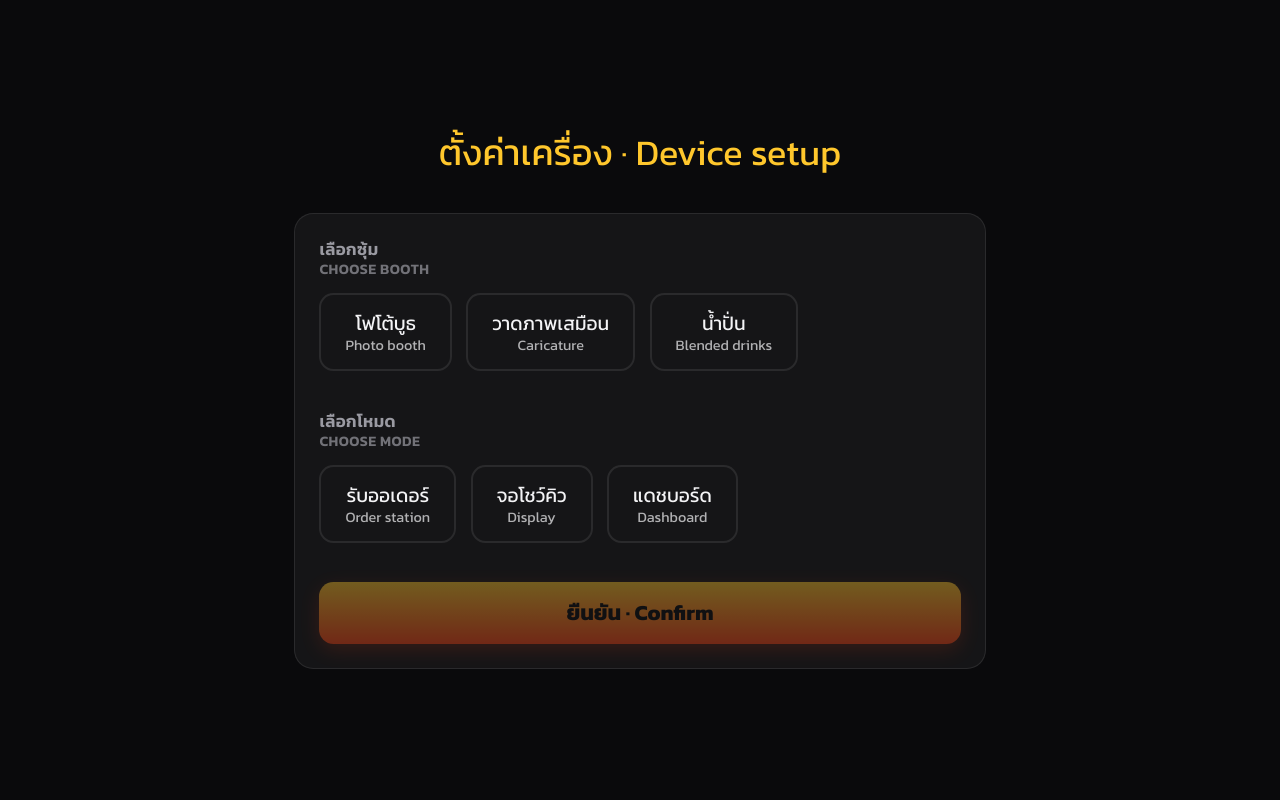
Test: order mode renders the Order Station with the booth catalog
The width and height of the screenshot is (1280, 800).
Click the button "น้ำปั่น Blended drinks" at (724, 332), box [650,293,798,371]
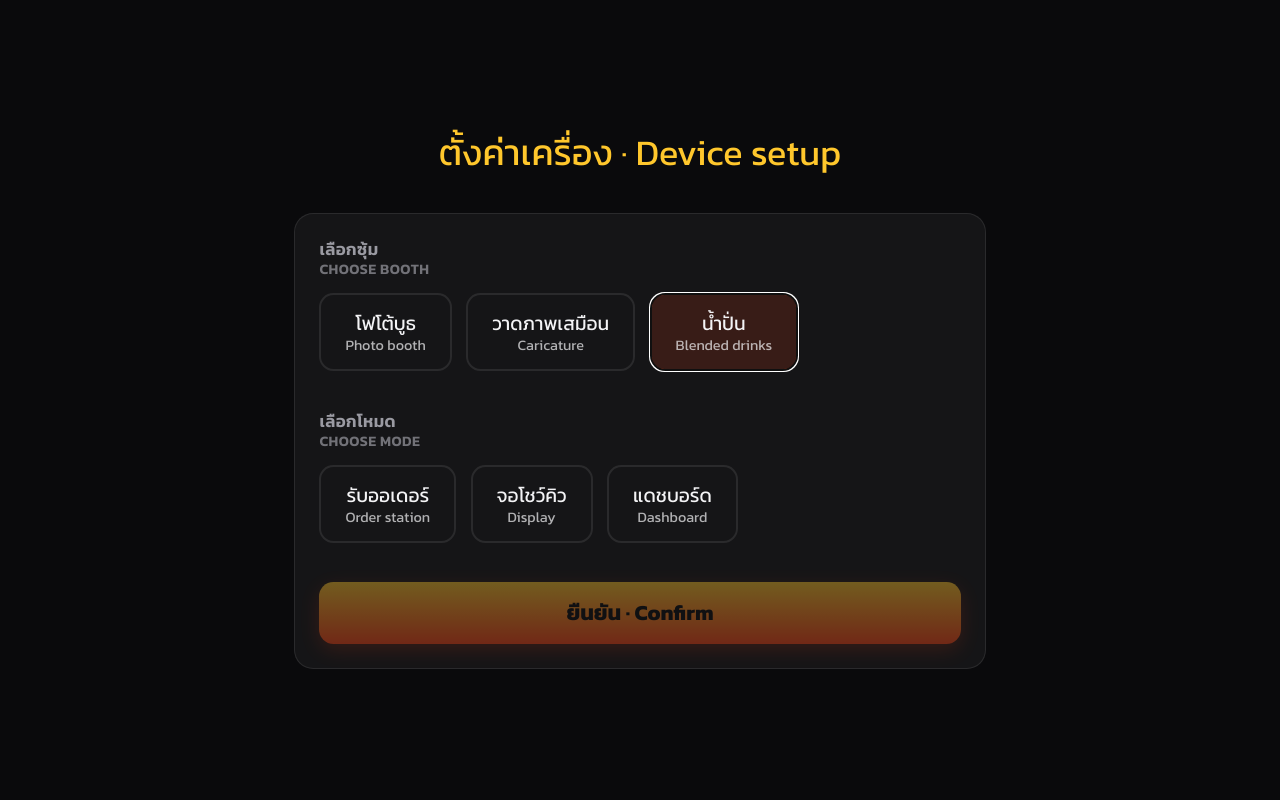
Click the button "รับออเดอร์ Order station" at (388, 504), box [319,465,456,543]
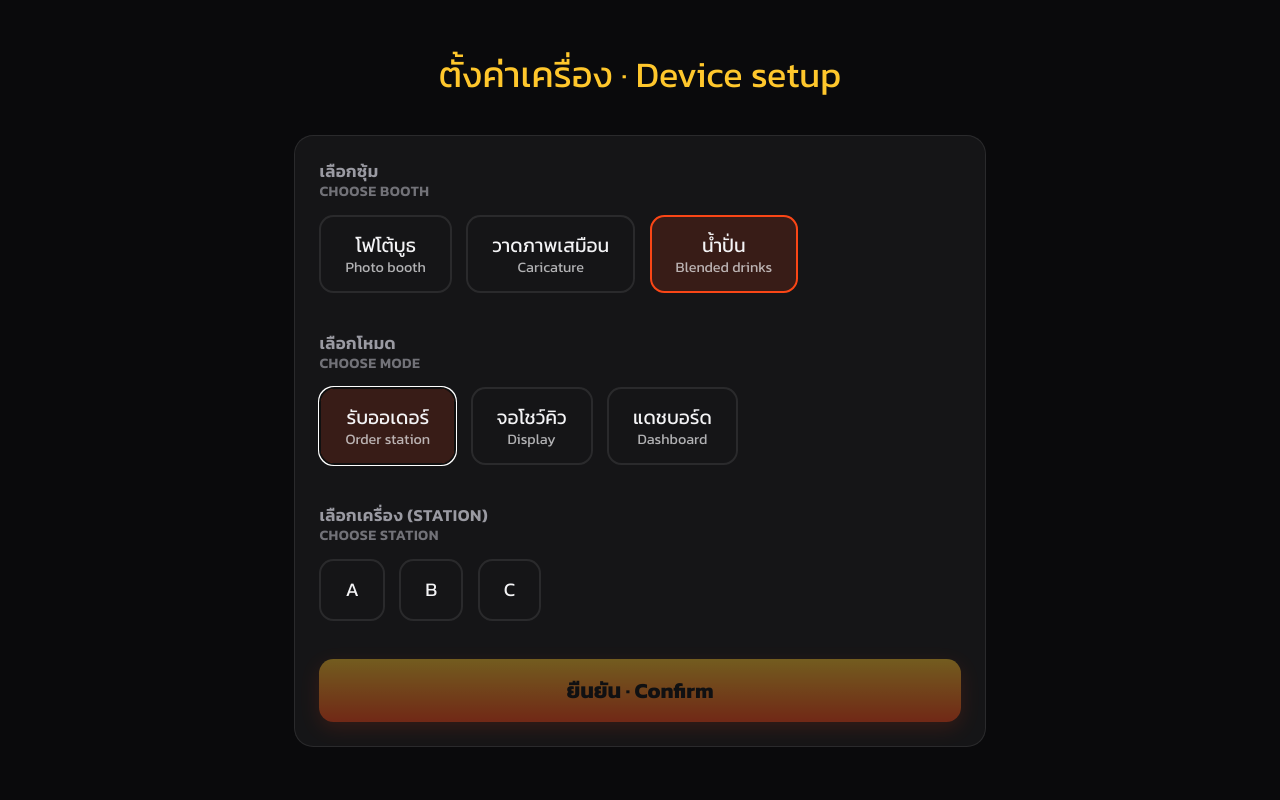
Click the button "A" at (352, 590), box [319,559,385,621]
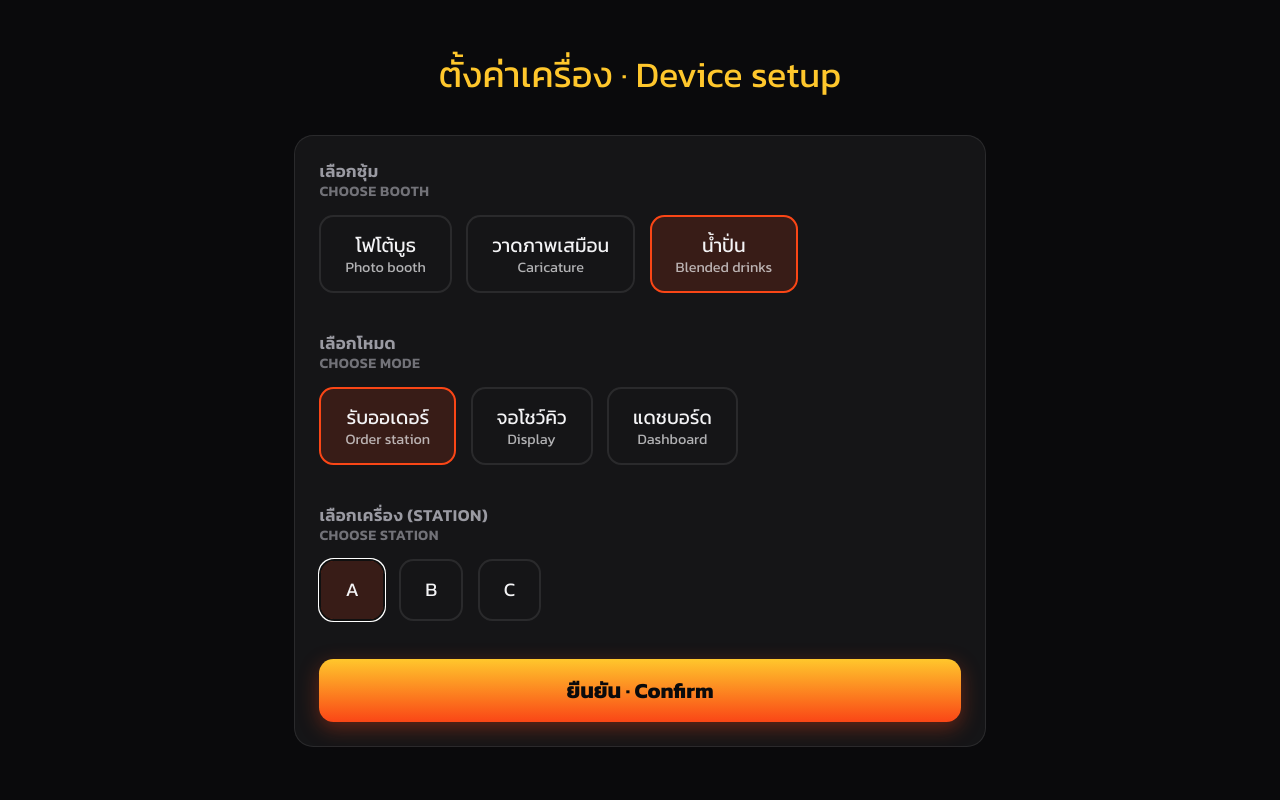
Click the button "ยืนยัน · Confirm" at (640, 690), box [319,659,961,722]
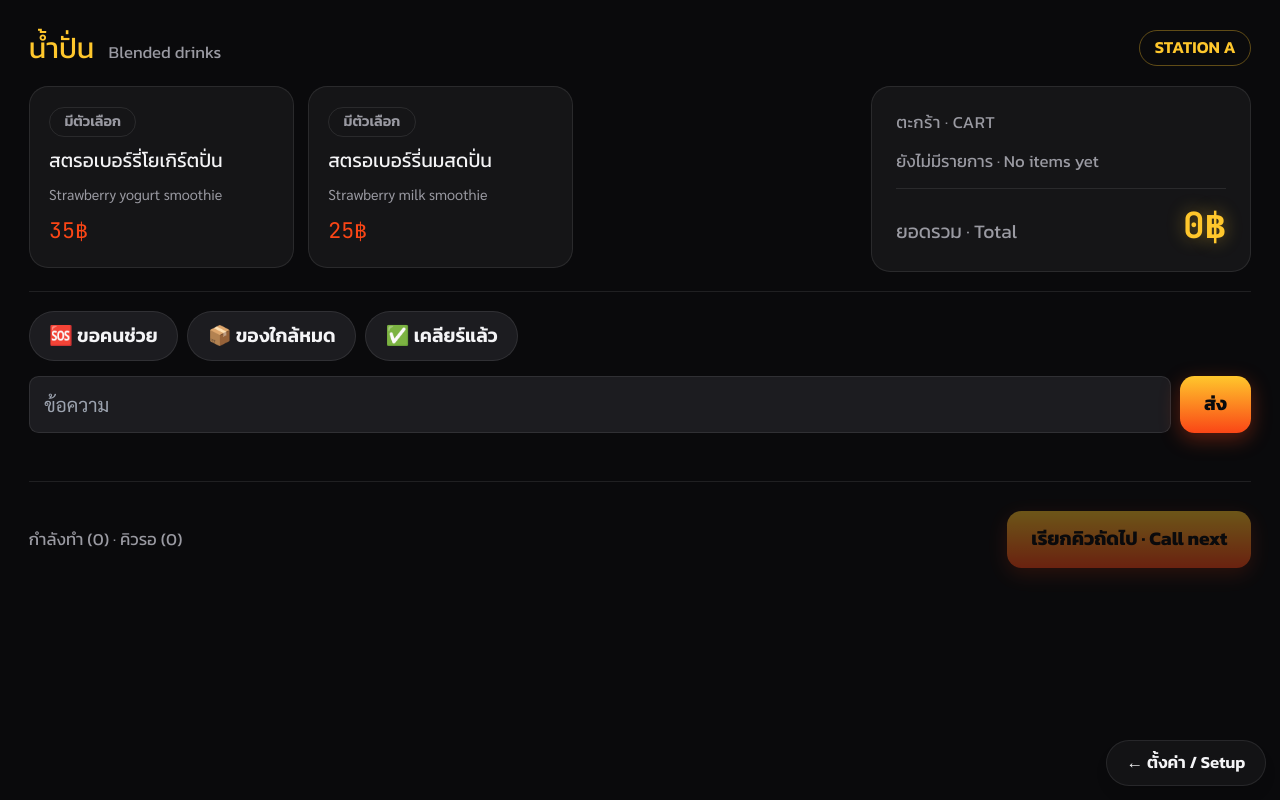
Check: the button "สตรอเบอร์รี่โยเกิร์ตปั่น" is shown, box [29,86,294,268]
